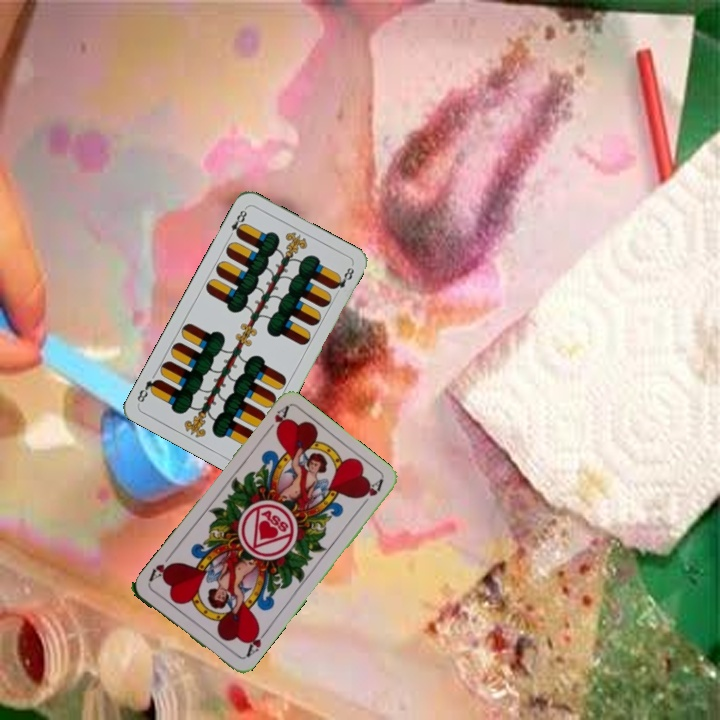E8: (224, 204, 250, 241)
HA: (239, 624, 270, 661), (260, 403, 291, 438)
